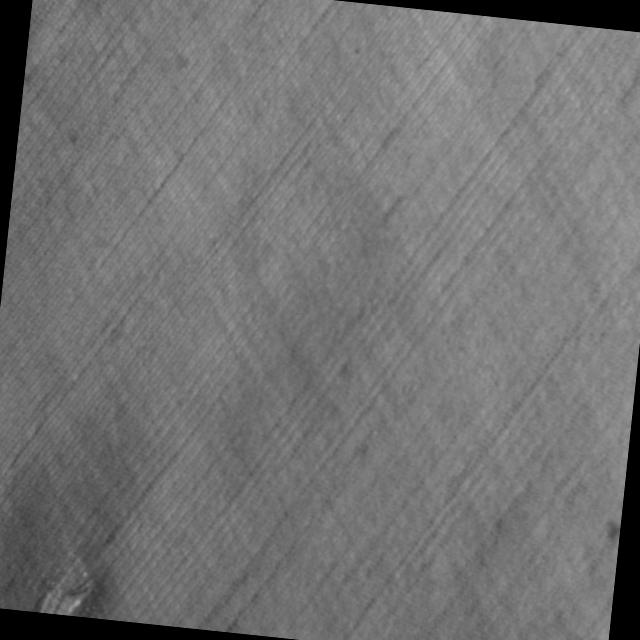hole: (30, 555, 110, 618)
